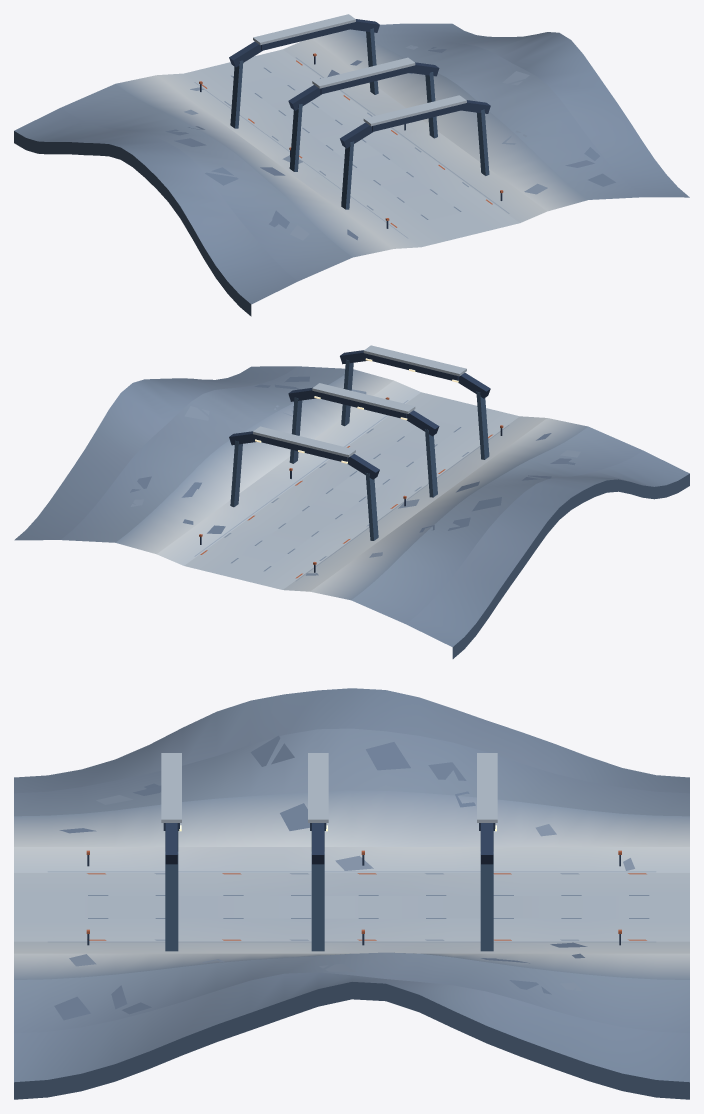
File: 05-ice_tunnel.glb
The picture shows the model from 3 angles, top to bottom: view 1: azimuth 30°, elevation 25°; view 2: azimuth 150°, elevation 25°; view 3: azimuth 270°, elevation 25°; orthographic projection. The views are drawn at different scales.
Visible parts, largest first — view 1: ice_tunnel; view 2: ice_tunnel; view 3: ice_tunnel.
Boxes of the visible parts, left/top/right/bottom form: ice_tunnel: left=14, top=14, right=689, bottom=316; ice_tunnel: left=14, top=345, right=689, bottom=658; ice_tunnel: left=14, top=688, right=689, bottom=1099.
Bounding box in the file's own units: 32 × 7.89 × 30.
